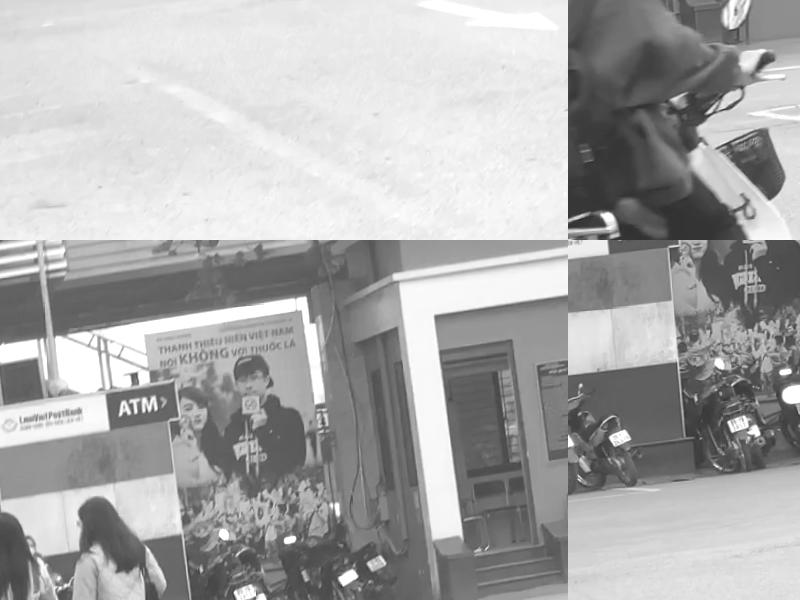license_plate: (605, 428, 631, 452), (724, 415, 747, 439), (332, 574, 354, 594), (364, 563, 383, 582), (228, 588, 252, 600)
motorcyclist: (568, 0, 800, 240)
